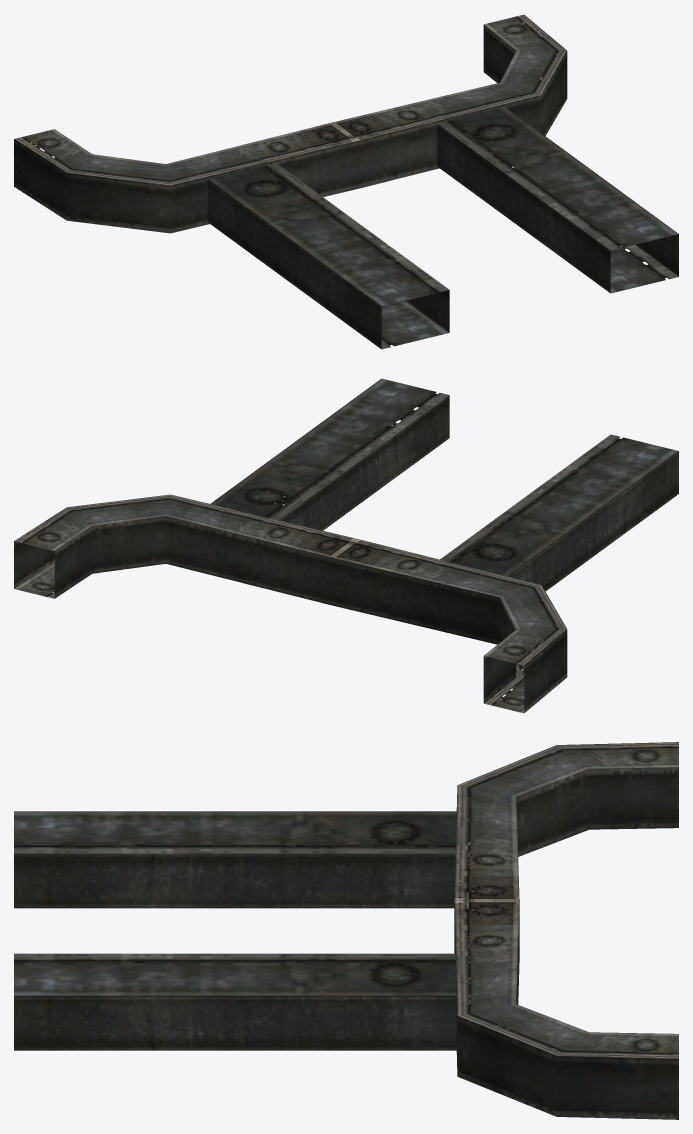
The model's file is pipe_support.DAE.
3 renders of one model, top to bottom at view 1: azimuth 30°, elevation 25°; view 2: azimuth 150°, elevation 25°; view 3: azimuth 270°, elevation 25°, orthographic. The views are drawn at different scales.
Parts seen in each view (by area): view 1: pipe_support; view 2: pipe_support; view 3: pipe_support.
Part boxes in pixels (left/top/right/bottom): pipe_support: left=14, top=14, right=678, bottom=349; pipe_support: left=14, top=378, right=678, bottom=713; pipe_support: left=14, top=742, right=678, bottom=1119.
Bounding box in the file's own units: 0.8634 × 0.7653 × 0.0772.
